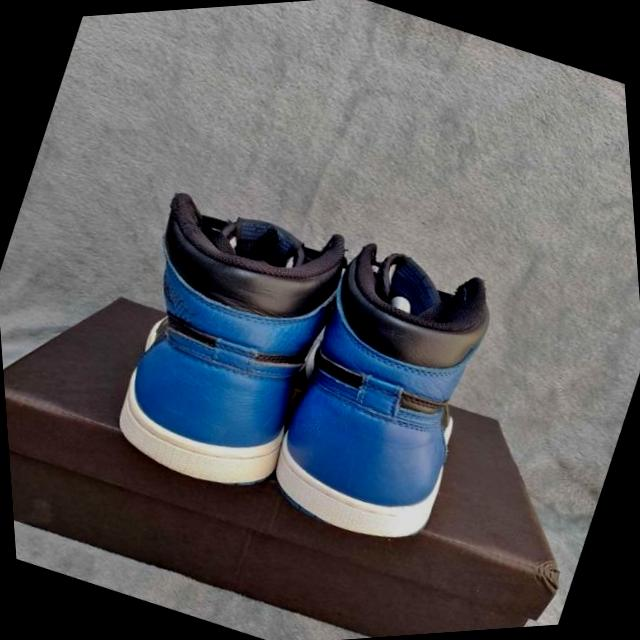nike_fake_jordan: (64, 164, 406, 534), (237, 216, 528, 564)
